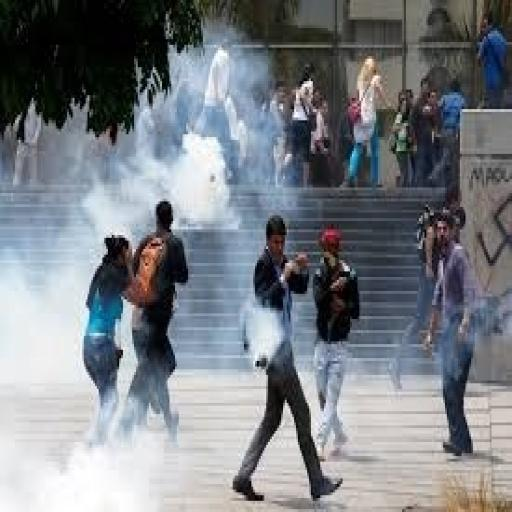running: (229, 210, 346, 506), (117, 196, 192, 448), (421, 202, 482, 462), (309, 221, 363, 464), (80, 230, 138, 450)
